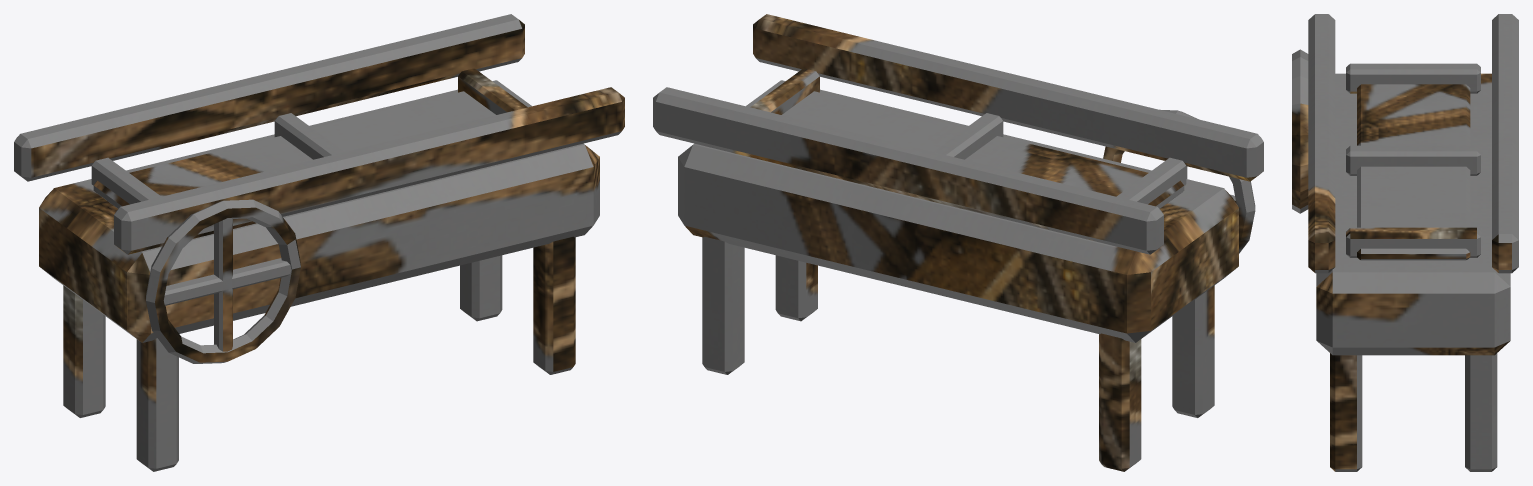
Rendered from sluice.glb.
3 views of the same model, side by side, from view 1: azimuth 30°, elevation 25°; view 2: azimuth 150°, elevation 25°; view 3: azimuth 270°, elevation 25° (orthographic). The views are drawn at different scales.
Visible parts, largest first — view 1: SluiceWorks; view 2: SluiceWorks; view 3: SluiceWorks.
Boxes of the visible parts, x1=… form: SluiceWorks: x1=14, y1=14, x2=624, y2=471; SluiceWorks: x1=653, y1=14, x2=1263, y2=471; SluiceWorks: x1=1292, y1=14, x2=1518, y2=471.
Bounding box in the file's own units: 1.98 × 1.04 × 0.8403.
Materials: 1 (1 with a texture image).
